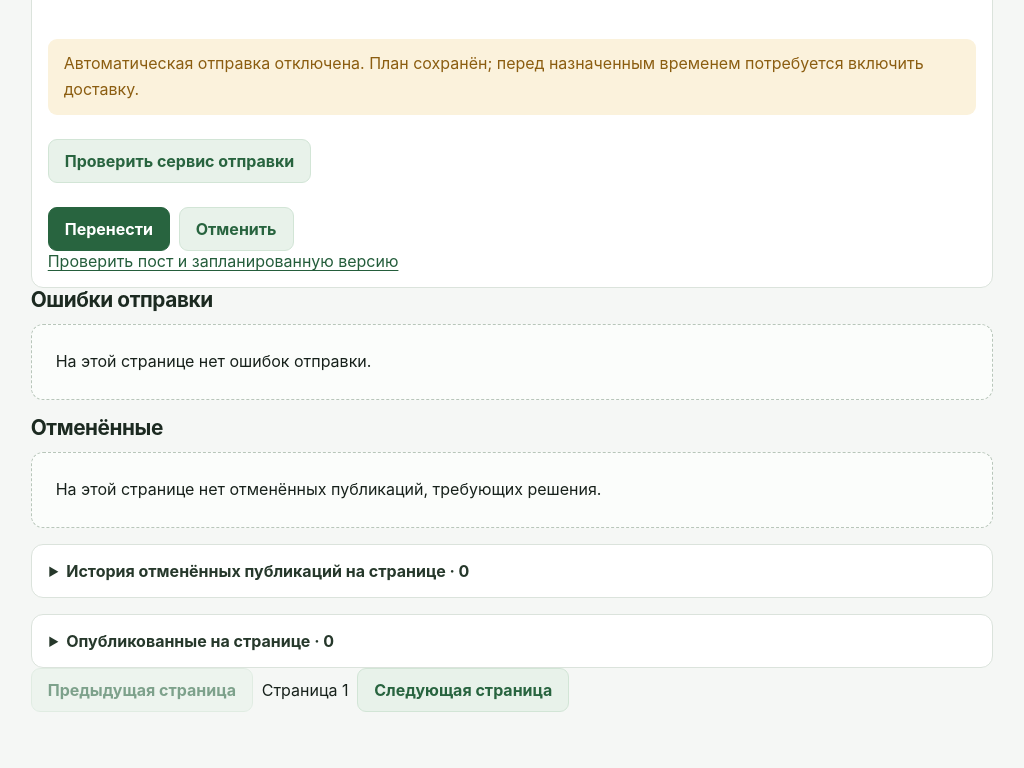
Scenario: snapshot failures and pagination › replaces complete pages, sends cursor and reloads the previous page independently
(page scrolled)
Expected: the button "Предыдущая страница" is disabled, [31,668,253,712]
What coordinates should you click on to do the following:
click the button "Следующая страница"
I would click on:
 (463, 690)
Its box is [357,668,569,712].
(page scrolled)
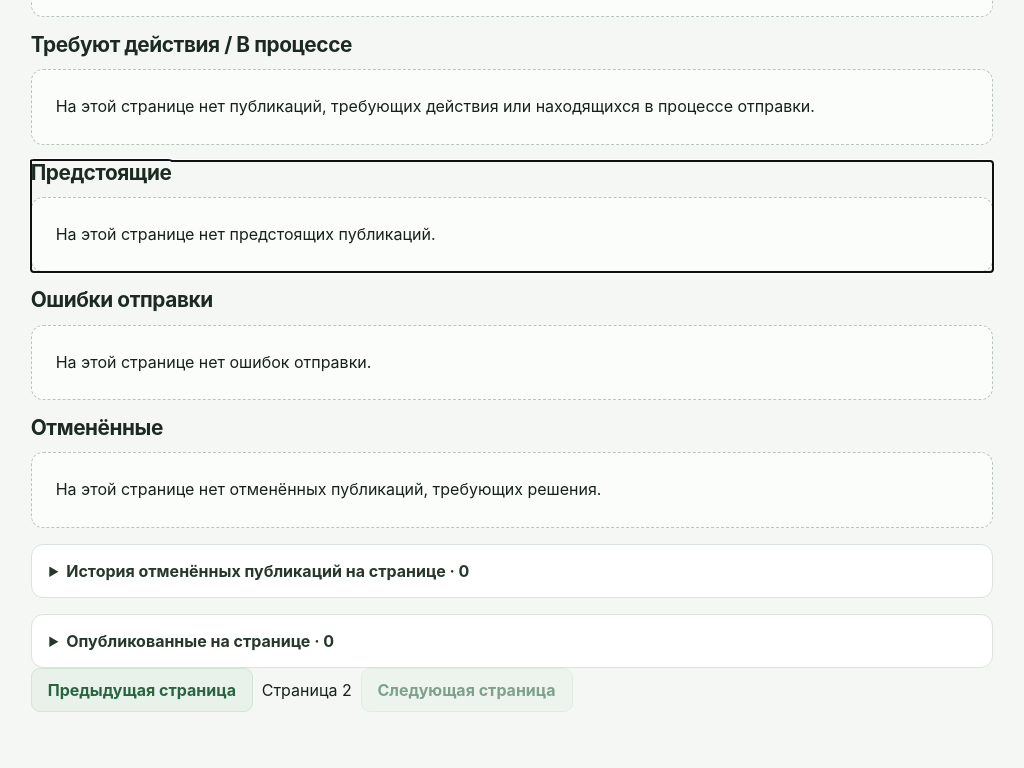
Now the text "На этой странице нет предстоящих публикаций." is shown, box [31,197,993,272]
Now the button "Следующая страница" is disabled, box [360,668,573,712]
Now the text "Страница 2" is shown, box [262,680,352,700]
What coordinates should you click on to do the following:
click the button "Предыдущая страница"
I would click on:
 (142, 690)
Its box is [31,668,253,712].
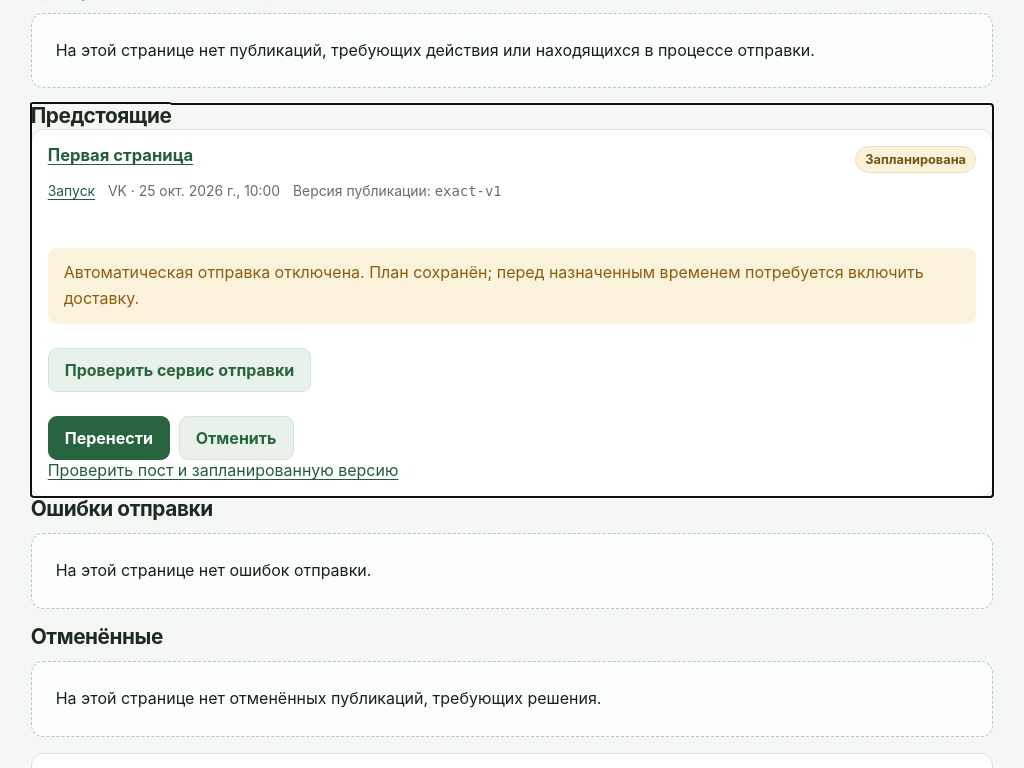
Now the link "Первая страница" is shown, box [48,145,193,165]
